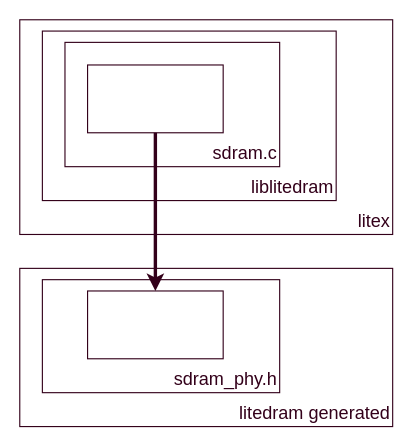
Some shapes in this 412 by 446 pixel diagram are drawn without their labels. The shapes that lost their labels are listed below. From the top down, each one's centre as x and y in pixels, then its label:
At [154,98]: "sdram_init()".
At [154,324]: "init_sequence()".
